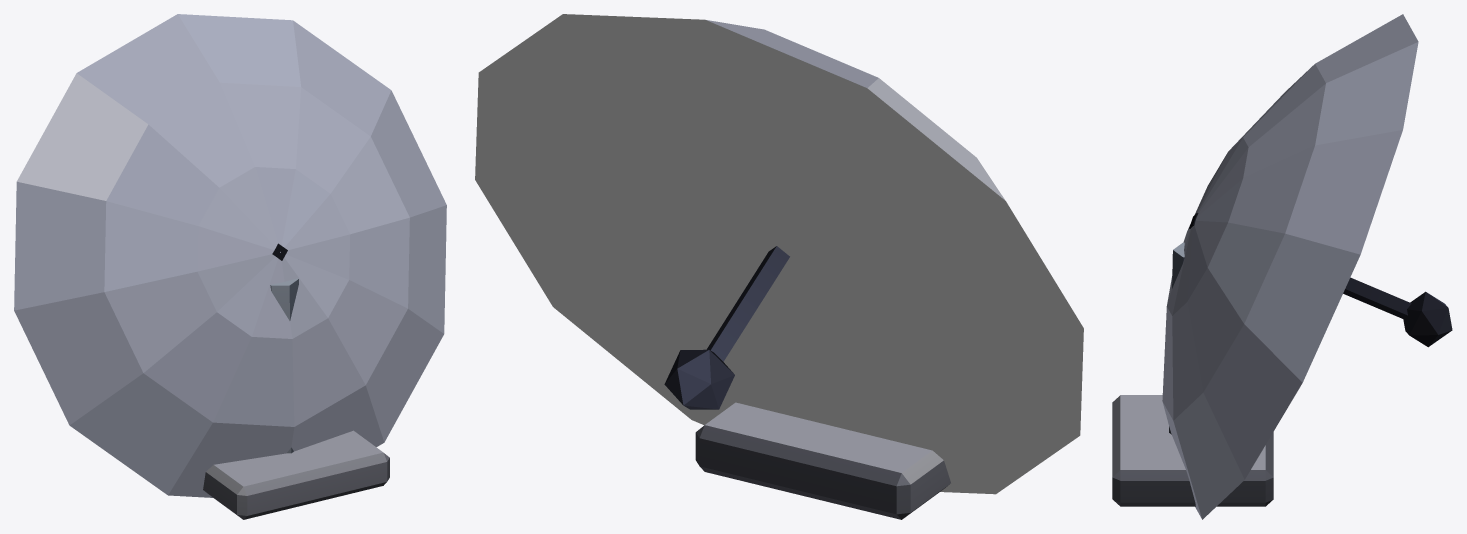
File: satellite_dish.glb
3 renders of one model, left to right at view 1: azimuth 30°, elevation 25°; view 2: azimuth 150°, elevation 25°; view 3: azimuth 270°, elevation 25°, orthographic. The views are drawn at different scales.
Parts seen in each view (by area): view 1: satellite_dish; view 2: satellite_dish; view 3: satellite_dish.
Part boxes in pixels (x1,y1,x2,y2): satellite_dish: (14,14,446,519); satellite_dish: (475,14,1083,519); satellite_dish: (1112,14,1452,519).
Bounding box in the file's own units: 0.68 × 0.6163 × 0.4217.
